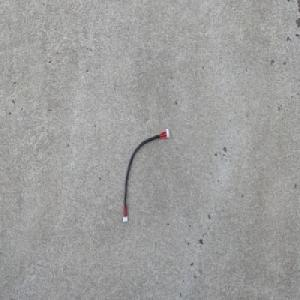Wire: (122, 127, 170, 223)
